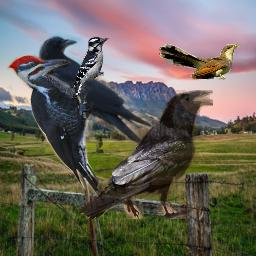Crow: (78, 90, 213, 219), (37, 31, 152, 148)
Cuckoo: (159, 44, 240, 80)
Woodpecker: (7, 54, 104, 203), (71, 36, 109, 100)
